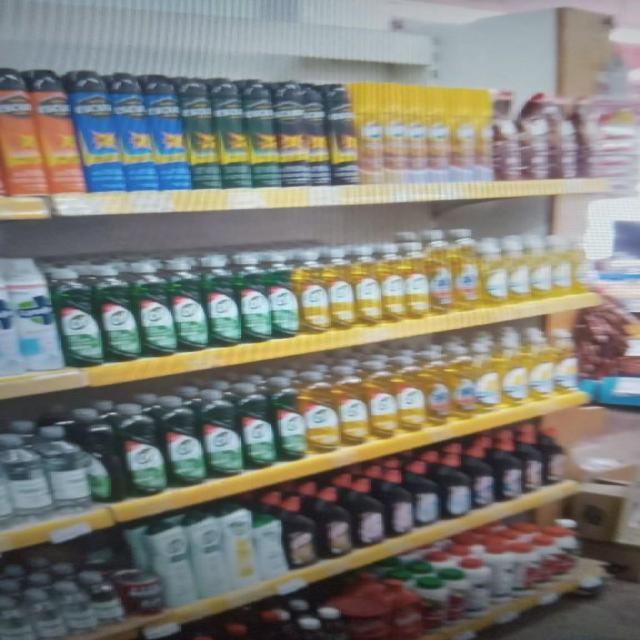ala_conc_amarillo: (454, 230, 479, 312), (429, 233, 452, 316), (425, 353, 449, 428), (451, 348, 476, 420)
cif_conc_bot_amarilla: (303, 372, 337, 456), (298, 252, 328, 334), (338, 367, 367, 447), (368, 361, 396, 441), (354, 247, 380, 328), (397, 358, 424, 434), (328, 250, 353, 331), (381, 244, 405, 324), (406, 241, 428, 320)
cif_conc_botella_verde: (118, 403, 163, 498), (56, 268, 98, 368), (163, 394, 201, 488), (99, 266, 135, 363), (202, 388, 239, 478), (137, 262, 171, 358), (172, 259, 205, 353), (206, 256, 238, 348), (240, 382, 272, 470), (274, 378, 304, 462), (240, 255, 268, 343), (269, 253, 297, 339)
magistral_con_amarillo: (527, 330, 554, 403), (481, 236, 507, 308), (501, 335, 526, 408), (554, 327, 579, 397), (508, 236, 529, 304), (530, 235, 550, 301), (552, 236, 572, 298)
